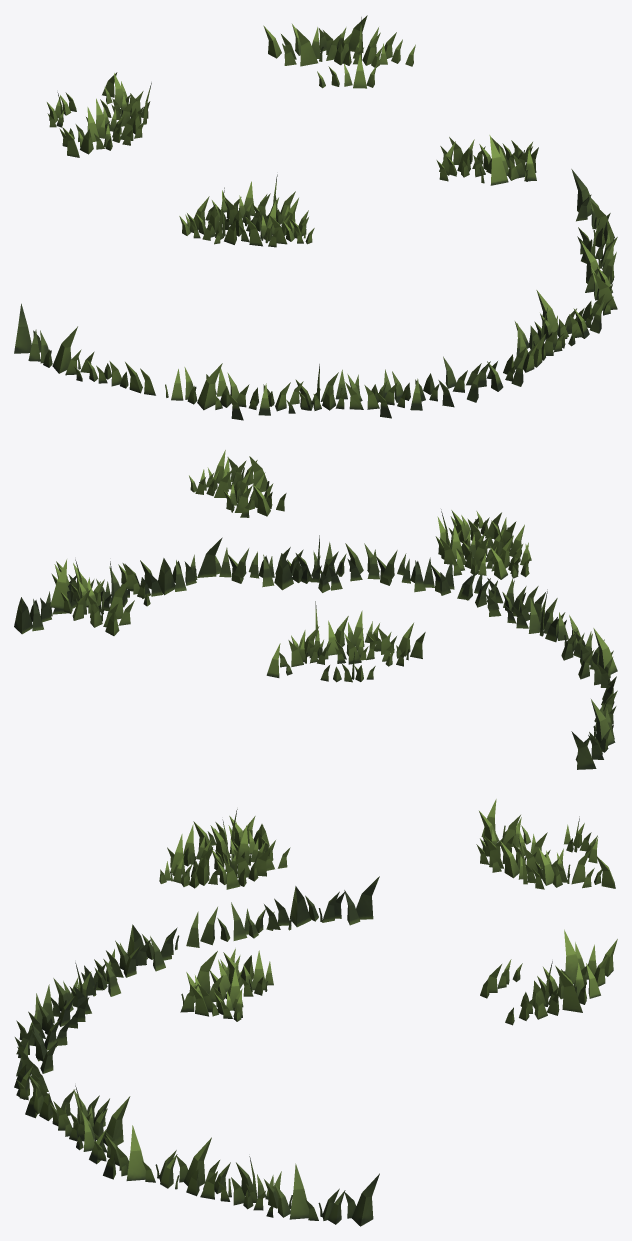
File: Plant_02.FBX
3 renders of one model, top to bottom at view 1: azimuth 30°, elevation 25°; view 2: azimuth 150°, elevation 25°; view 3: azimuth 270°, elevation 25°, orthographic. The views are drawn at different scales.
Visible parts, largest first — view 1: Plant_02; view 2: Plant_02; view 3: Plant_02.
Part boxes in pixels (left/top/right/bottom): Plant_02: left=14, top=15, right=617, bottom=420; Plant_02: left=14, top=450, right=617, bottom=769; Plant_02: left=14, top=799, right=617, bottom=1226.
Size of the model in its own units: 25.99 by 7.66 by 21.06.
